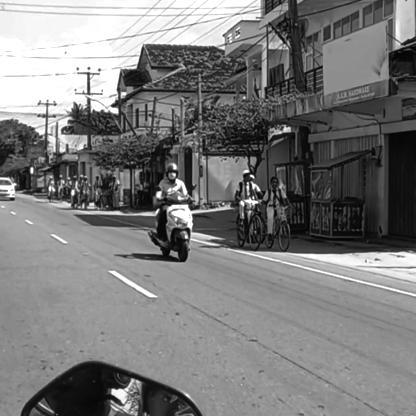motorcycle: (148, 187, 200, 262)
